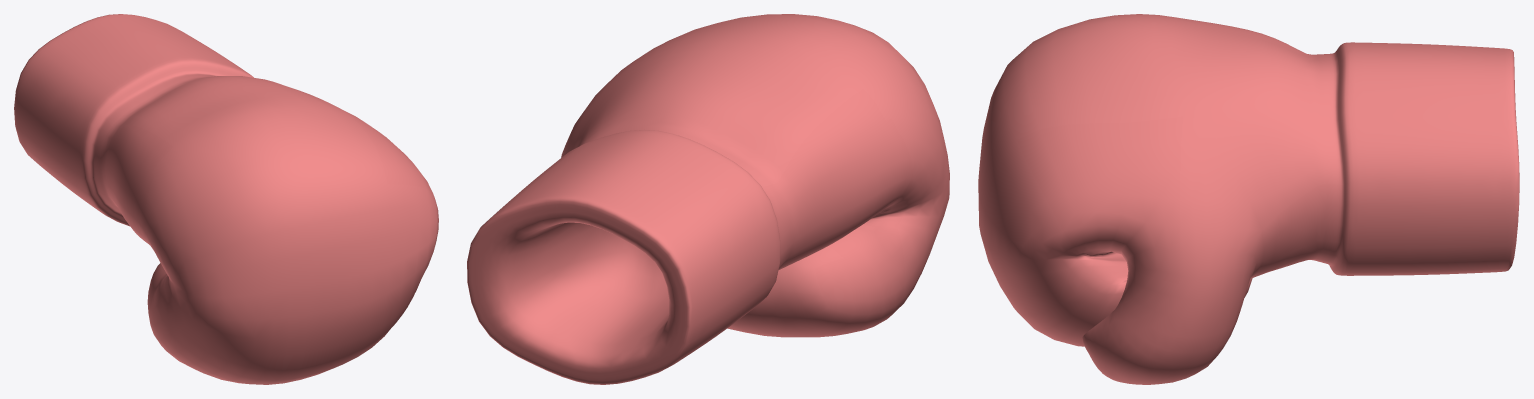
The model's file is LHand.obj.
The picture shows the model from 3 angles, left to right: view 1: azimuth 30°, elevation 25°; view 2: azimuth 150°, elevation 25°; view 3: azimuth 270°, elevation 25°; orthographic projection. The views are drawn at different scales.
Parts seen in each view (by area): view 1: pCube2; view 2: pCube2; view 3: pCube2.
Part boxes in pixels (bbox=[...]): pCube2: bbox=[14, 14, 438, 384]; pCube2: bbox=[467, 14, 949, 384]; pCube2: bbox=[978, 14, 1519, 384].
Size of the model in its own units: 1.1 by 0.9498 by 1.59.
Materials: 1 (1 with a texture image).
